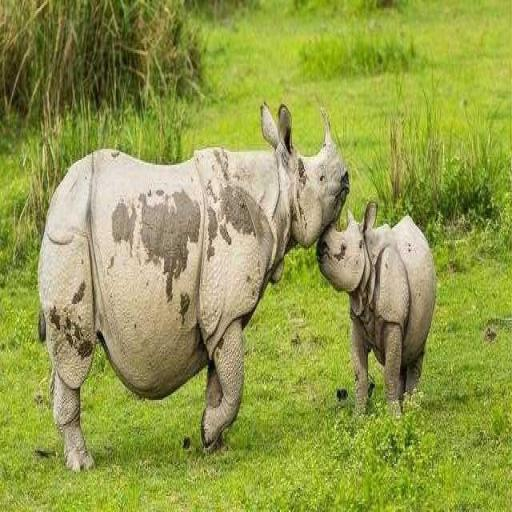Rhino: (36, 99, 350, 472), (316, 200, 436, 421)
